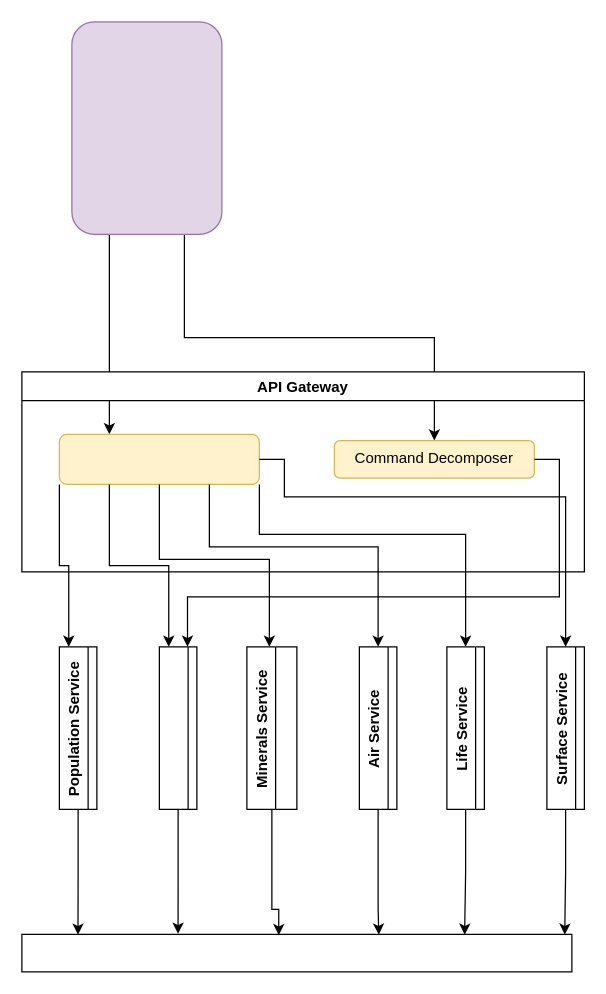
The diagram is 606 pixels wide and 994 high, and some of its shapes have lost their labels. The shapes that lost their labels are listed below. From the top down, each one's centre as x and y in pixels, then its label:
At pixel 146 127: "User".
At pixel 158 458: "Query Composer".
At pixel 177 727: "Building Service".
At pixel 296 952: "Event Bus".
